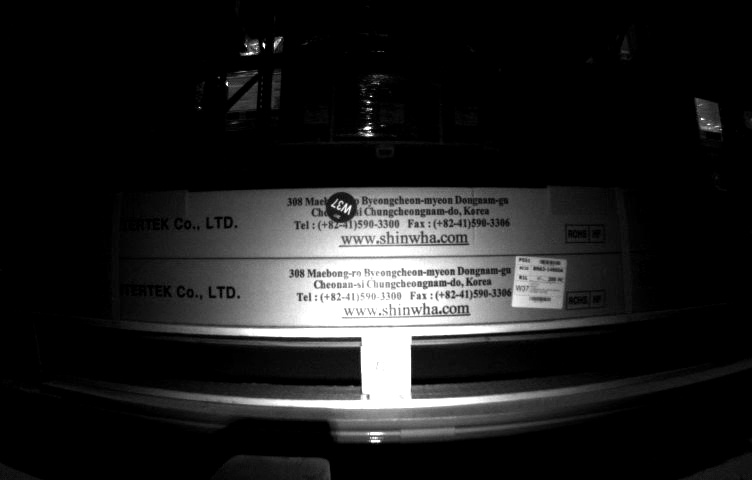True Barcode: (509, 254, 566, 312)
